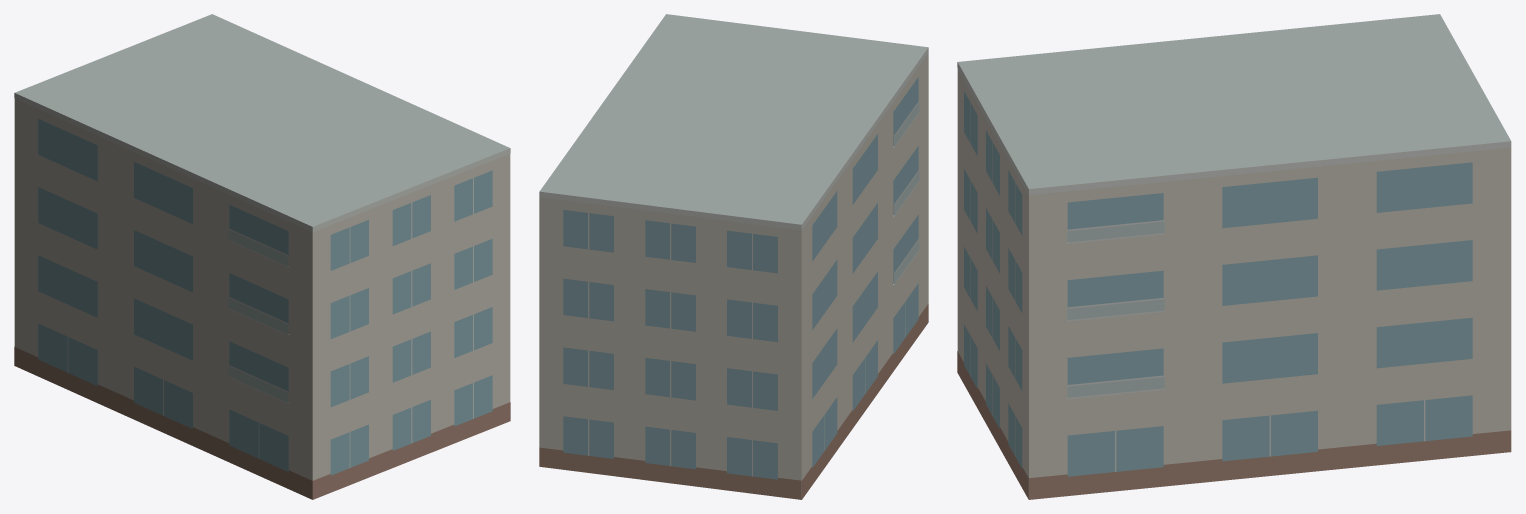
File: survey-upis-32981470.glb
The picture shows the model from 3 angles, left to right: view 1: azimuth 30°, elevation 25°; view 2: azimuth 150°, elevation 25°; view 3: azimuth 270°, elevation 25°; orthographic projection. The views are drawn at different scales.
Parts seen in each view (by area): view 1: survey-upis-32981470.tmp; view 2: survey-upis-32981470.tmp; view 3: survey-upis-32981470.tmp.
Part boxes in pixels (x1,y1,x2,y2): survey-upis-32981470.tmp: (14, 14, 510, 499); survey-upis-32981470.tmp: (539, 14, 928, 499); survey-upis-32981470.tmp: (957, 14, 1511, 499).
Bounding box in the file's own units: 14.88 × 12.3 × 19.88.
